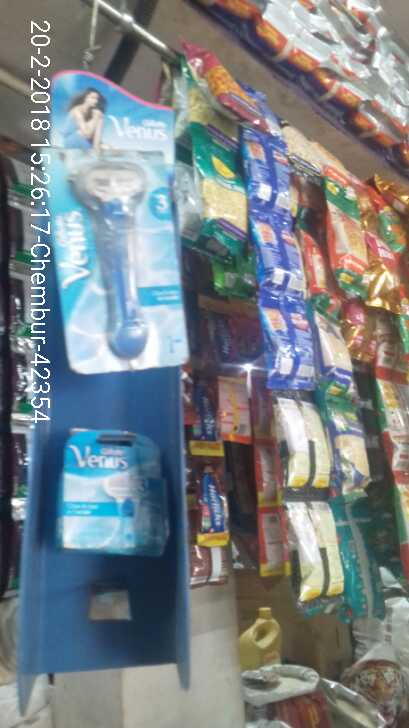venus: (69, 154, 173, 374), (59, 432, 157, 557)
